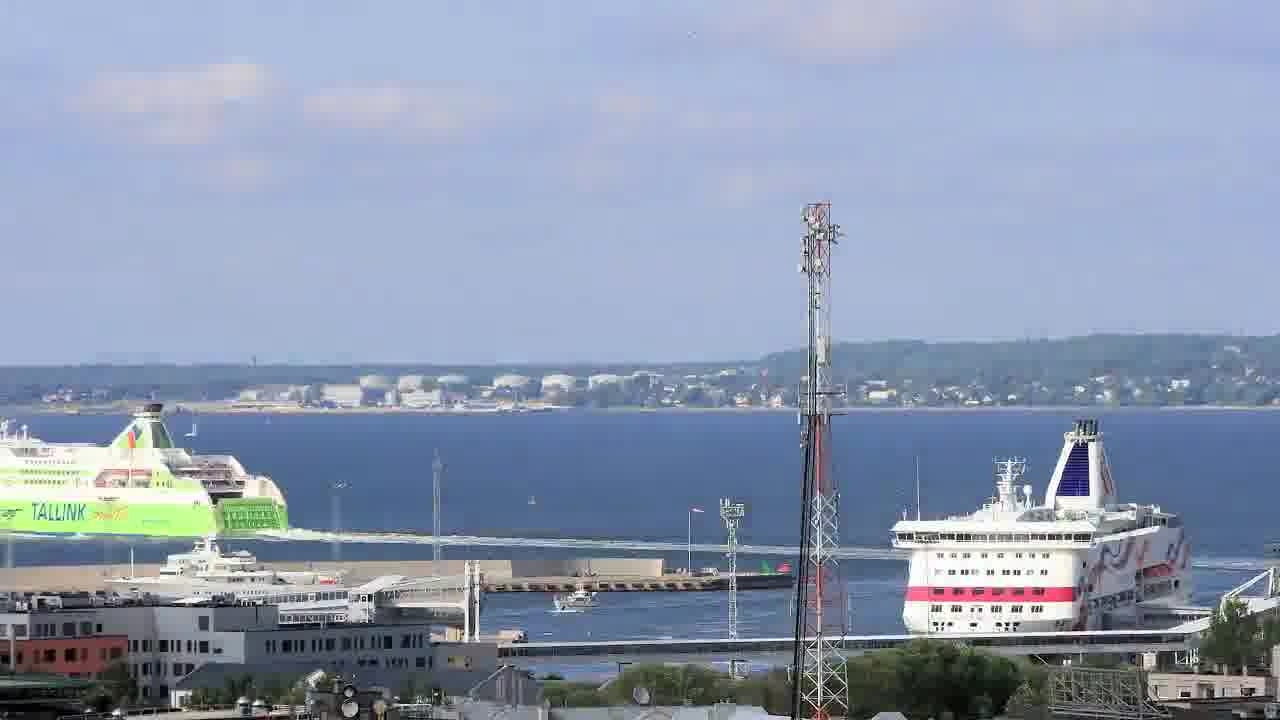type-0: (544, 571, 612, 615)
type-3: (868, 415, 1225, 638), (0, 386, 299, 554), (84, 511, 353, 609)
